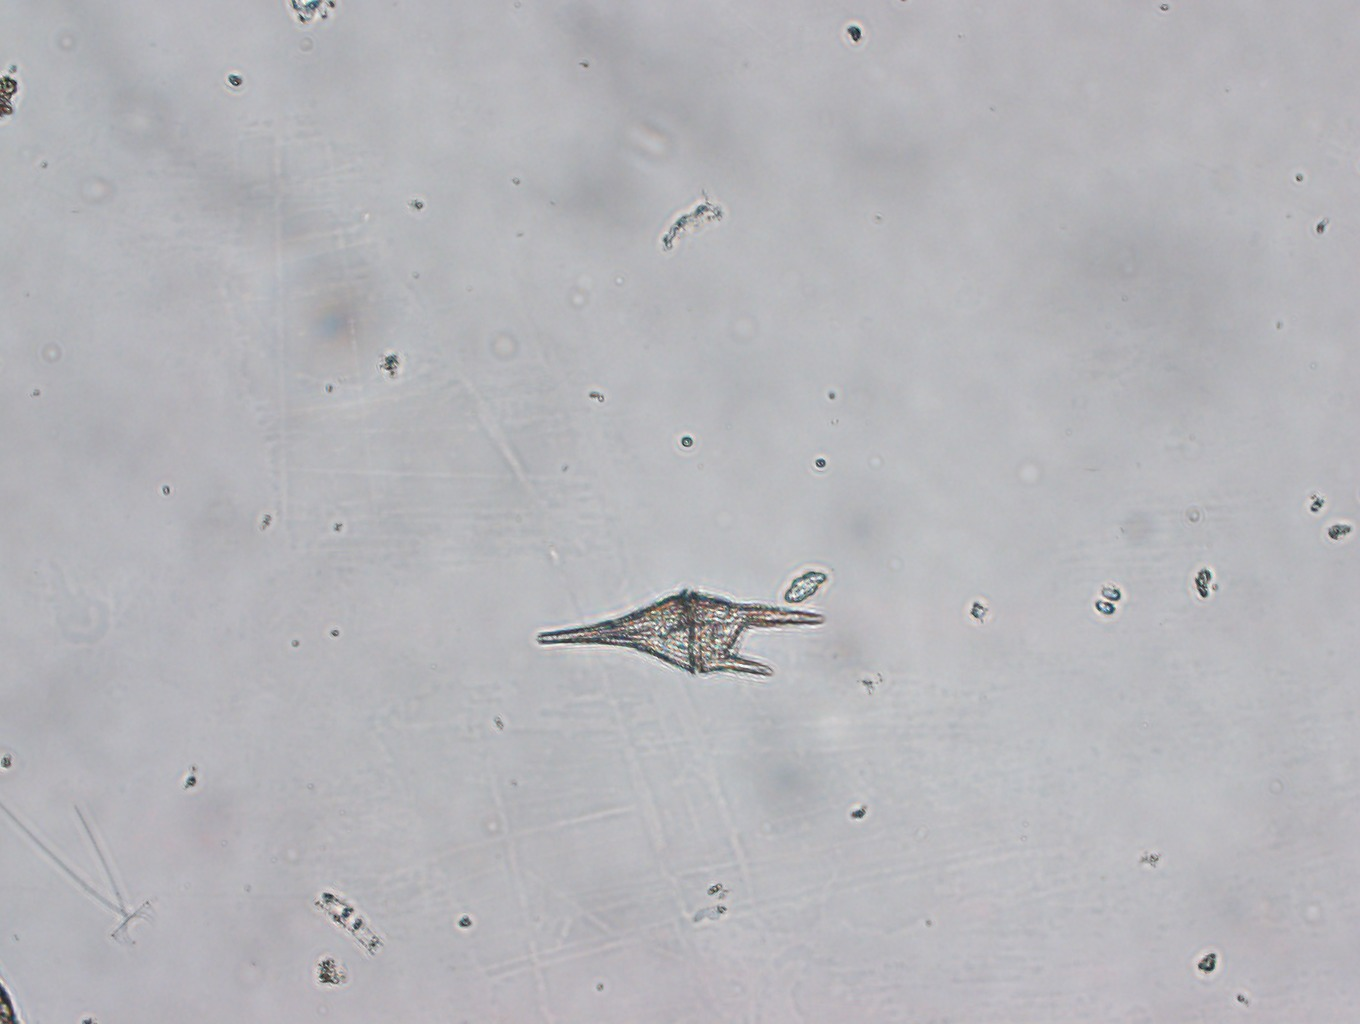ceratium furca: (536, 591, 828, 677)
